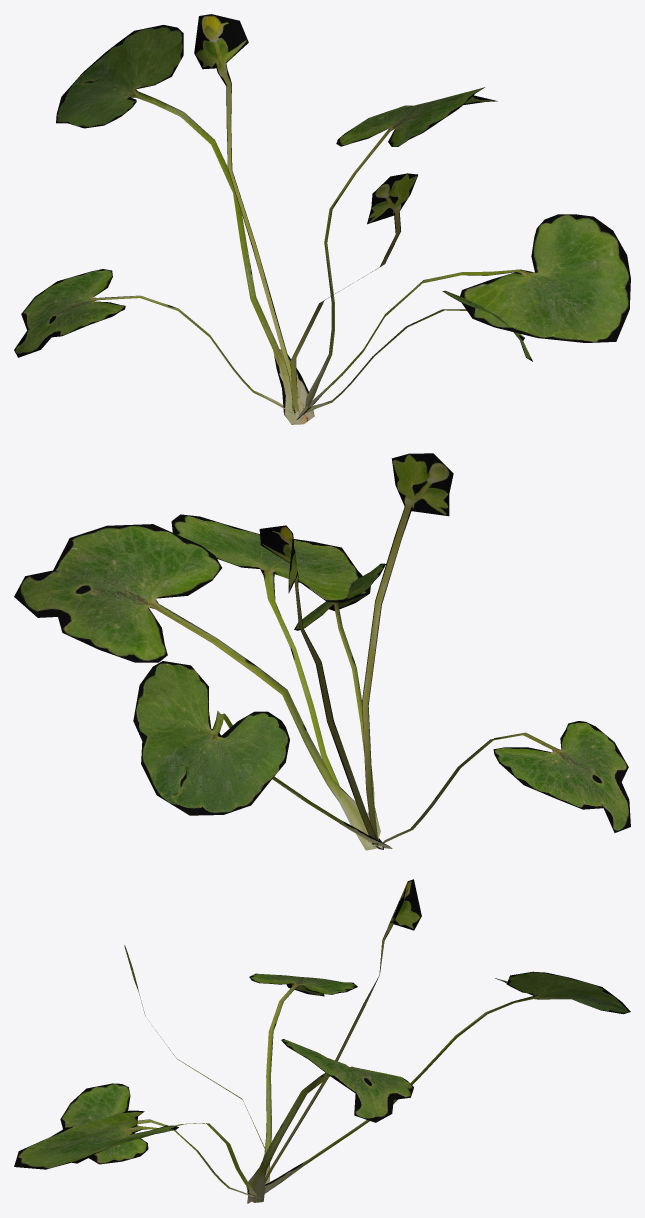
File: Planta_5.glb
3 views of the same model, one above another, from view 1: azimuth 30°, elevation 25°; view 2: azimuth 150°, elevation 25°; view 3: azimuth 270°, elevation 25° (orthographic). The views are drawn at different scales.
Visible parts, largest first — view 1: Planta 5; view 2: Planta 5; view 3: Planta 5.
Part boxes in pixels (x1,y1,x2,y2): Planta 5: (14, 14, 630, 424); Planta 5: (14, 453, 630, 850); Planta 5: (14, 879, 630, 1203).
Size of the model in its own units: 0.3389 by 0.2226 by 0.3894.
Materials: 1 (1 with a texture image).
